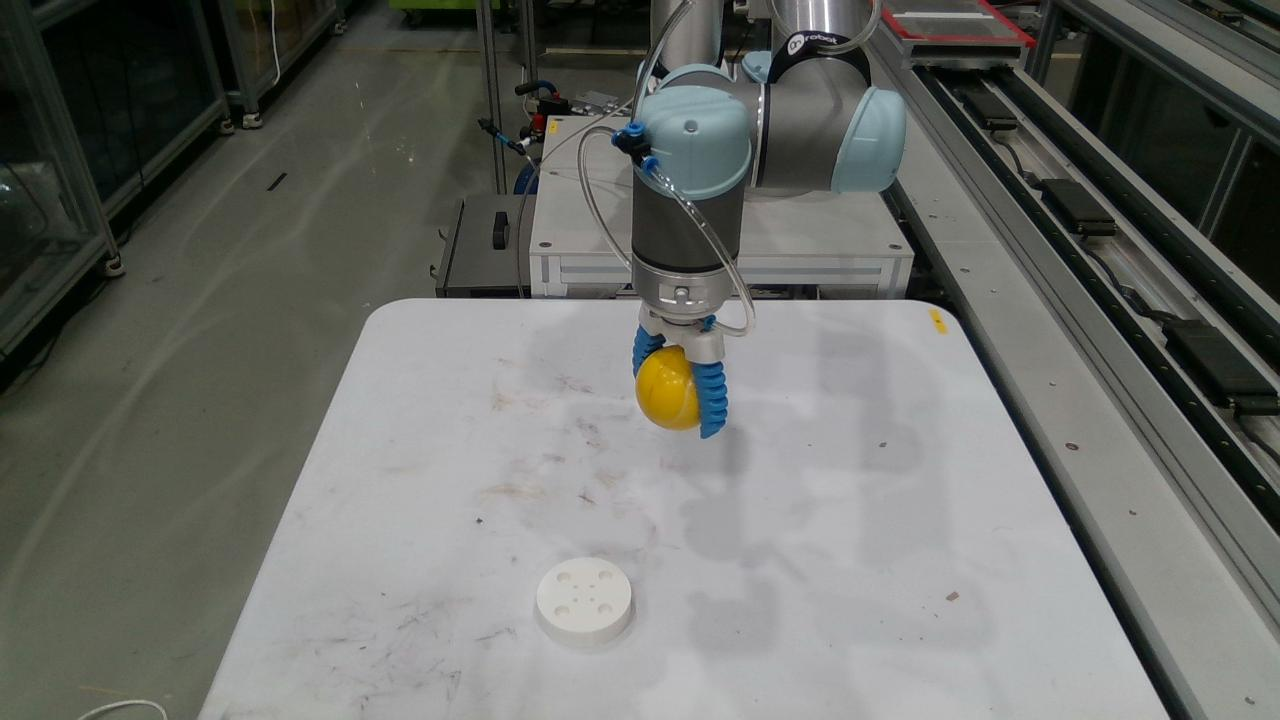UR5: (556, 6, 902, 362)
gripper_left: (632, 326, 665, 373)
gripper_right: (696, 362, 726, 435)
target: (538, 562, 630, 636), (636, 346, 698, 430)
